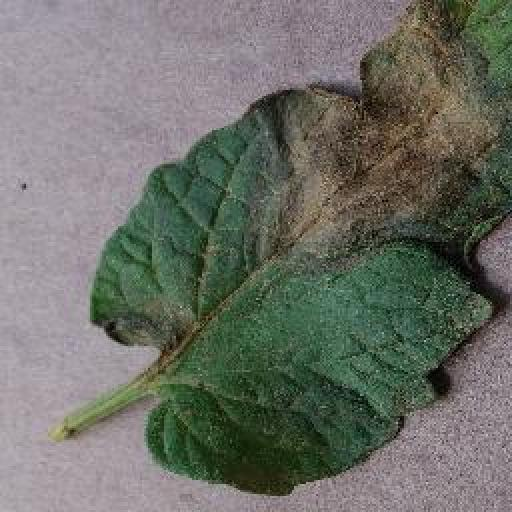disease_tomato: (92, 0, 512, 496)
